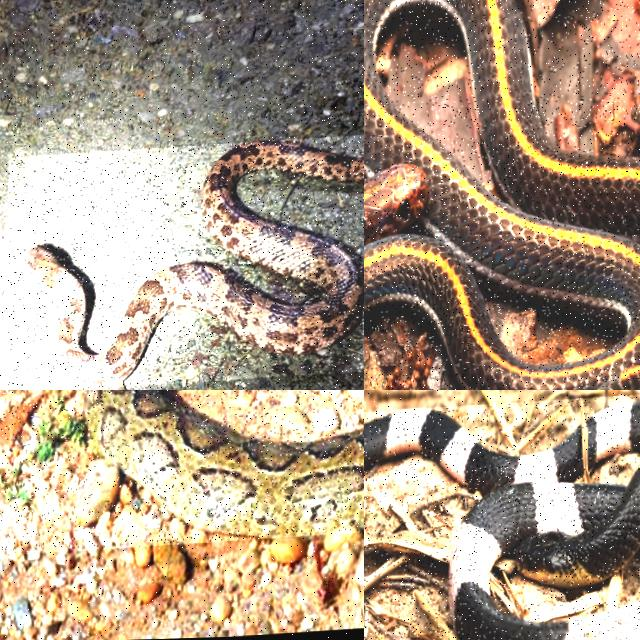Bungarus candidus: (364, 409, 639, 639)
Calliophis intestinalis: (364, 0, 639, 389)
Daboia siamensis: (86, 390, 363, 536)
Ovophis monticola: (9, 141, 363, 388)
